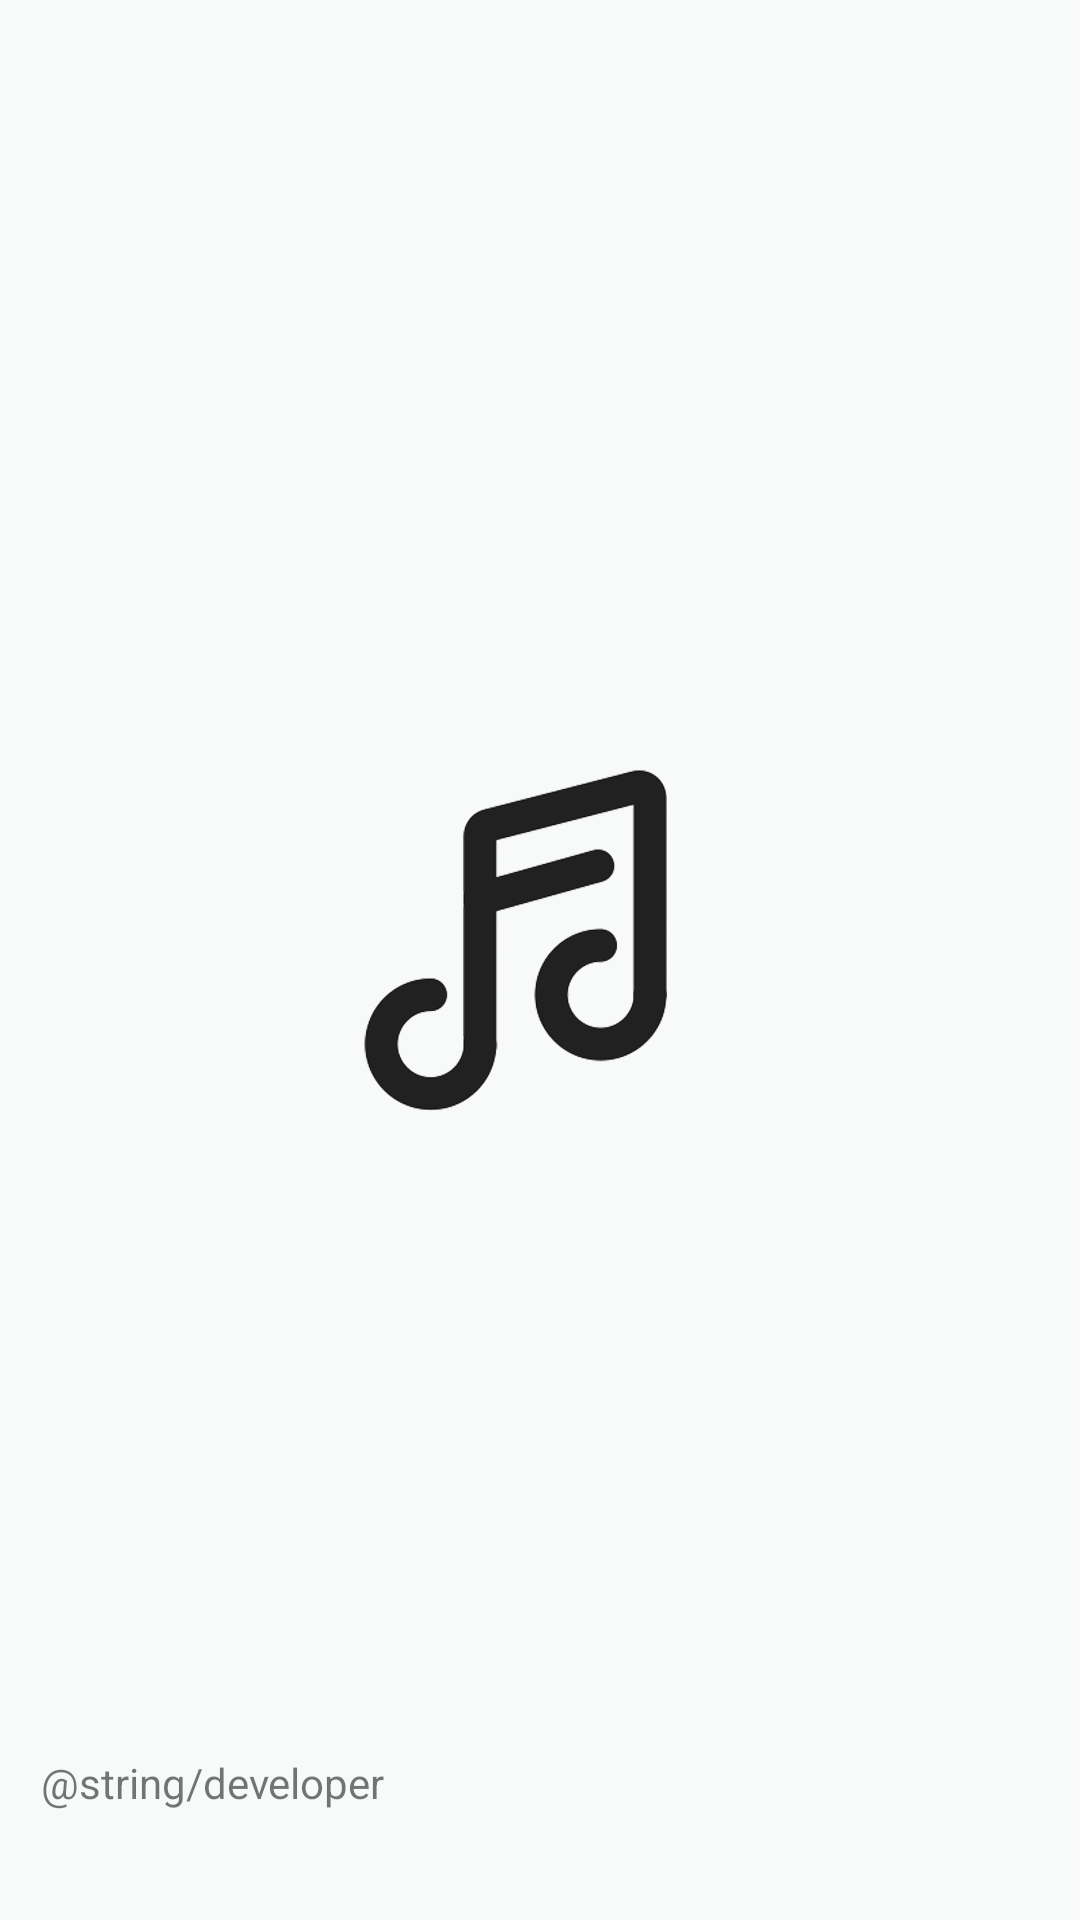

Icon bounding boxes for this 1080×1920 phone screenshot, format [x1, y1, x2, y2]:
music: [364, 770, 667, 1110]
